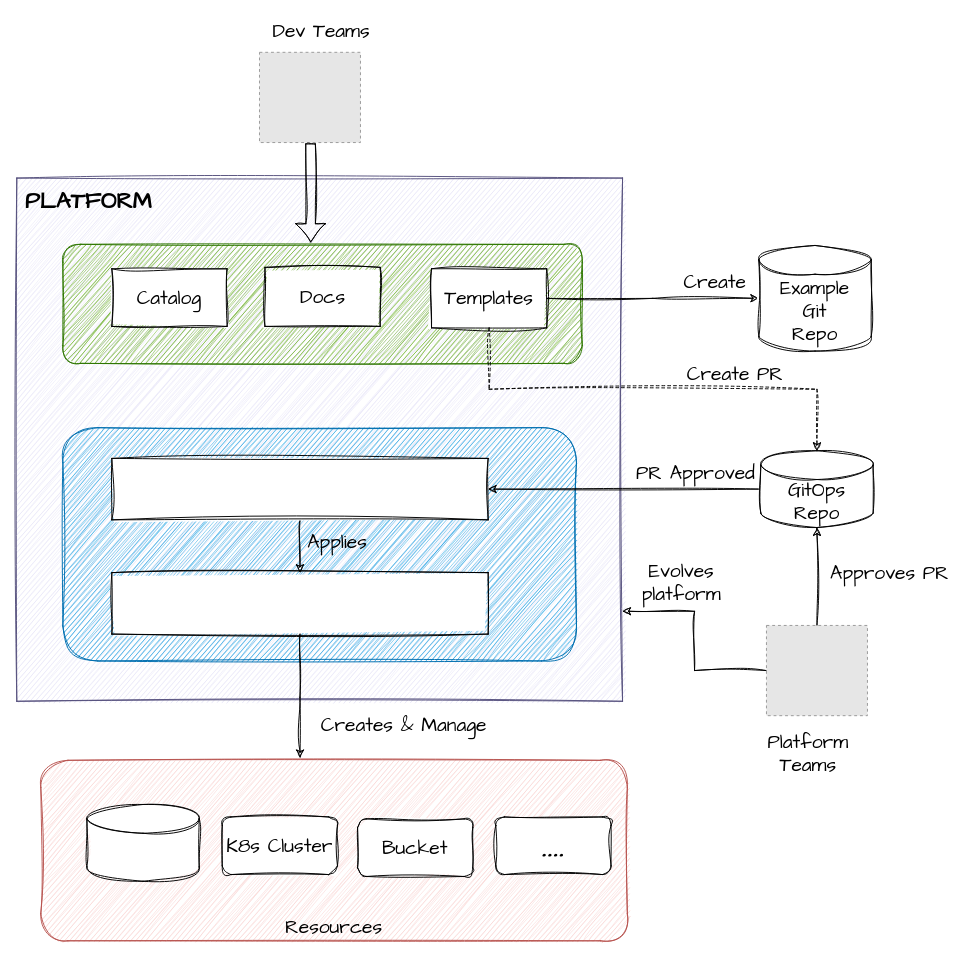
Image size: 970x957. Some labels were removed from this diagram. Grey dashed boxes stand in for pictures. The box of each missing label's shape, as (x1, y1, x2, y2) in pixels:
ArgoCD: (111, 457, 488, 520)
Control Plane Cluster: (62, 427, 576, 661)
Crossplane: (111, 572, 488, 634)
Database: (86, 804, 199, 881)
Dev Portal: Backstage: (62, 243, 582, 363)
